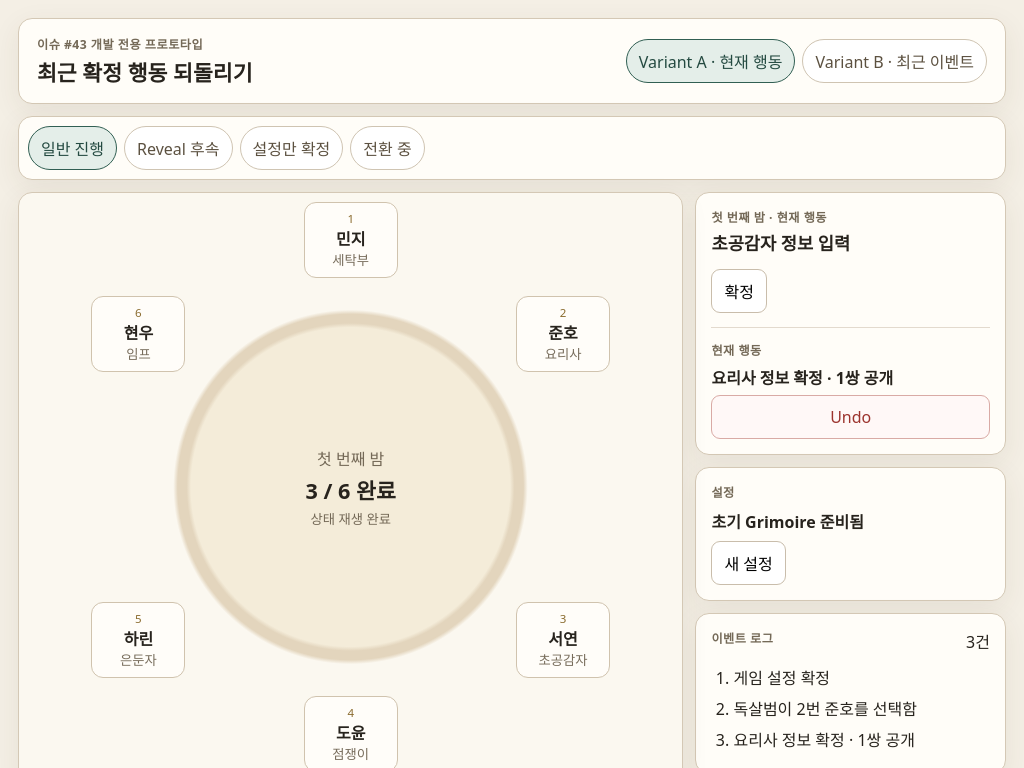
identifies the latest event and cancellation leaves prototype state unchanged
Click the button "Undo" at (851, 417), box [712, 395, 990, 439]
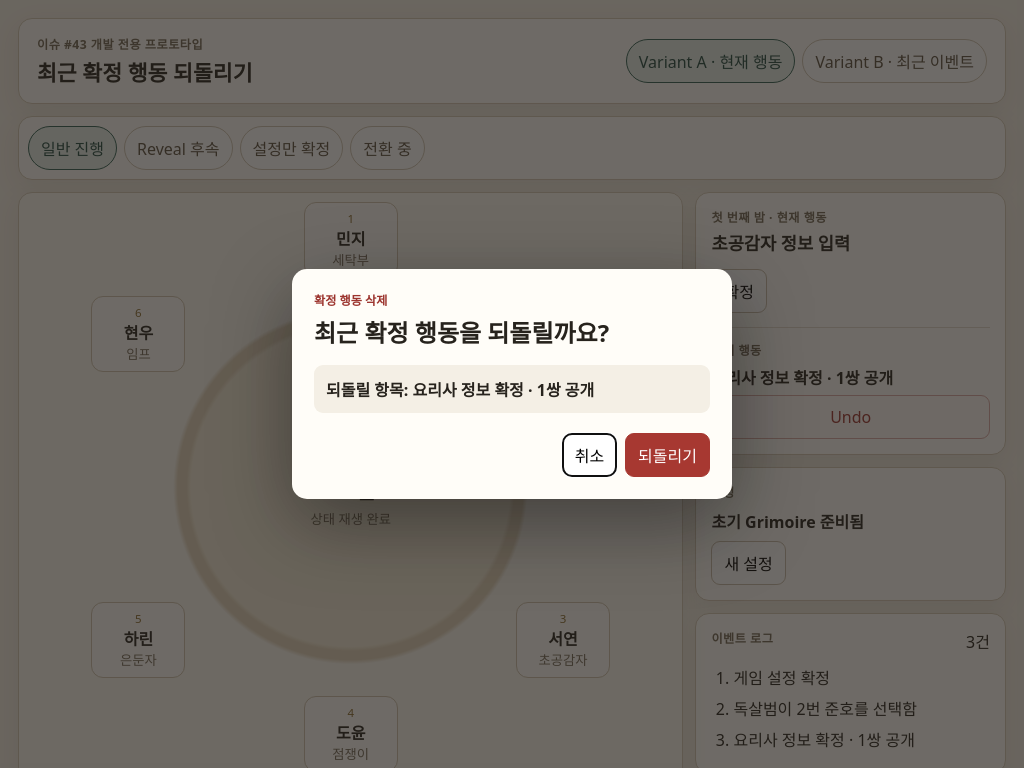
Expected: the text "되돌릴 항목: 요리사 정보 확정 · 1쌍 공개" is shown, [314, 365, 710, 413]
Click the button "취소" at (589, 455), box [562, 433, 617, 477]
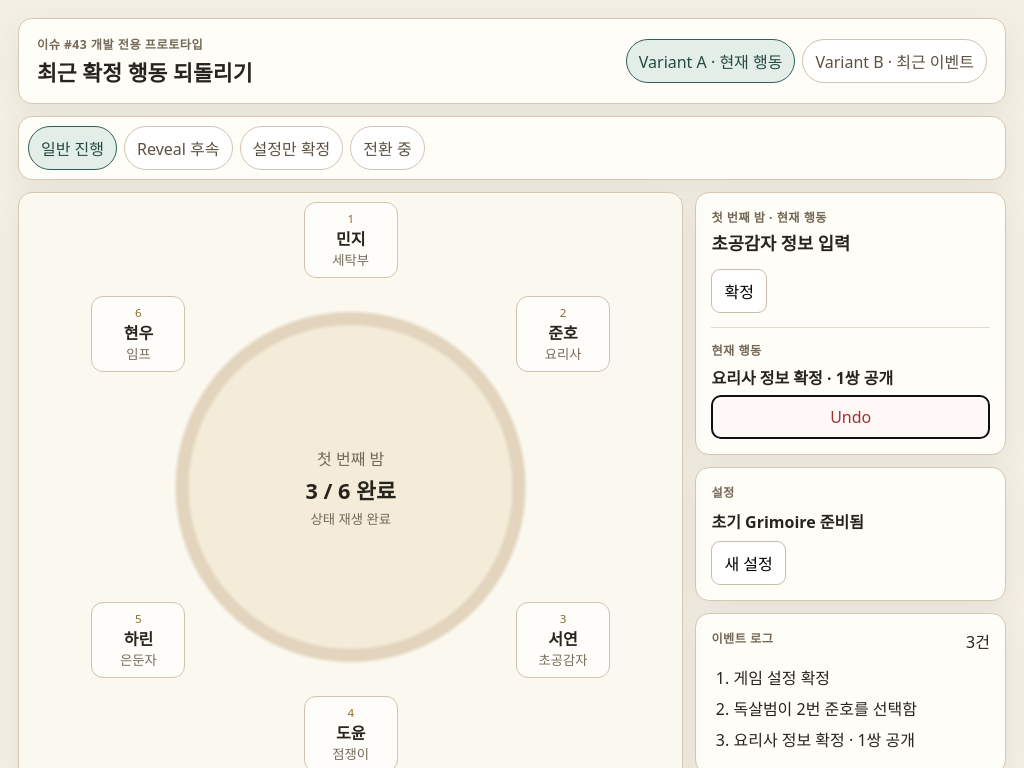
Expected: the text "요리사 정보 확정 · 1쌍 공개" is shown, [712, 367, 893, 389]
Expected: the dialog is gone
